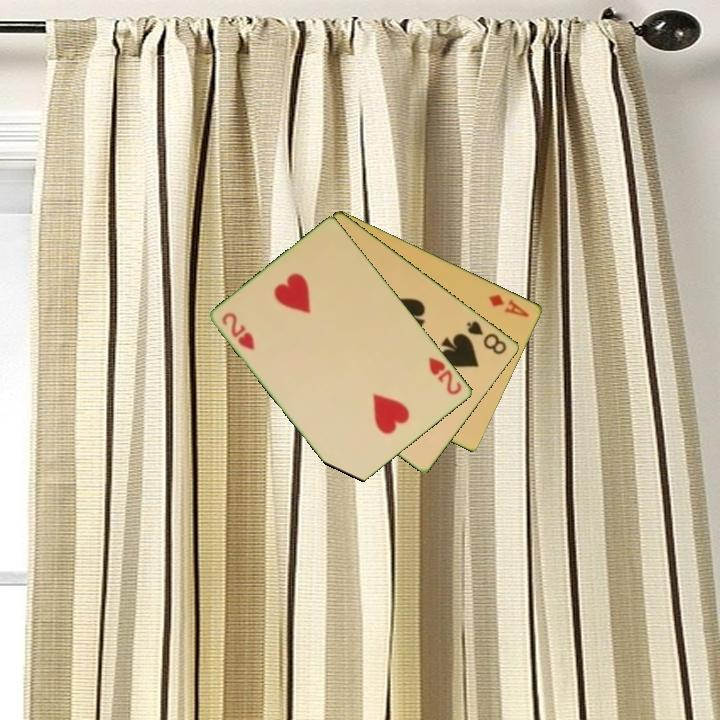2h: (425, 354, 465, 398), (219, 309, 258, 353)
8s: (463, 317, 510, 358)
Ad: (485, 290, 532, 320)
